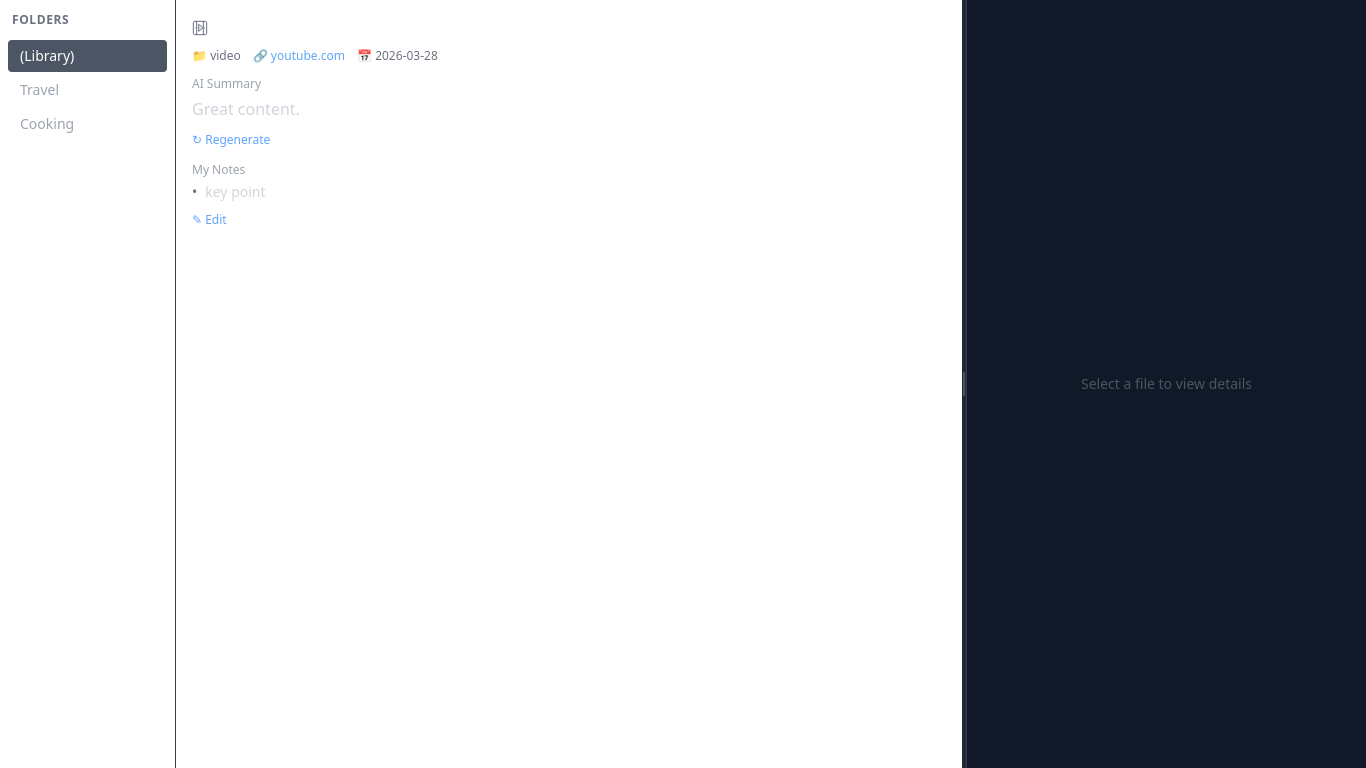
Test: NotesTab › shows Edit button and textarea on click
Click the button "✎ Edit" at (209, 220), box [192,212,227,228]
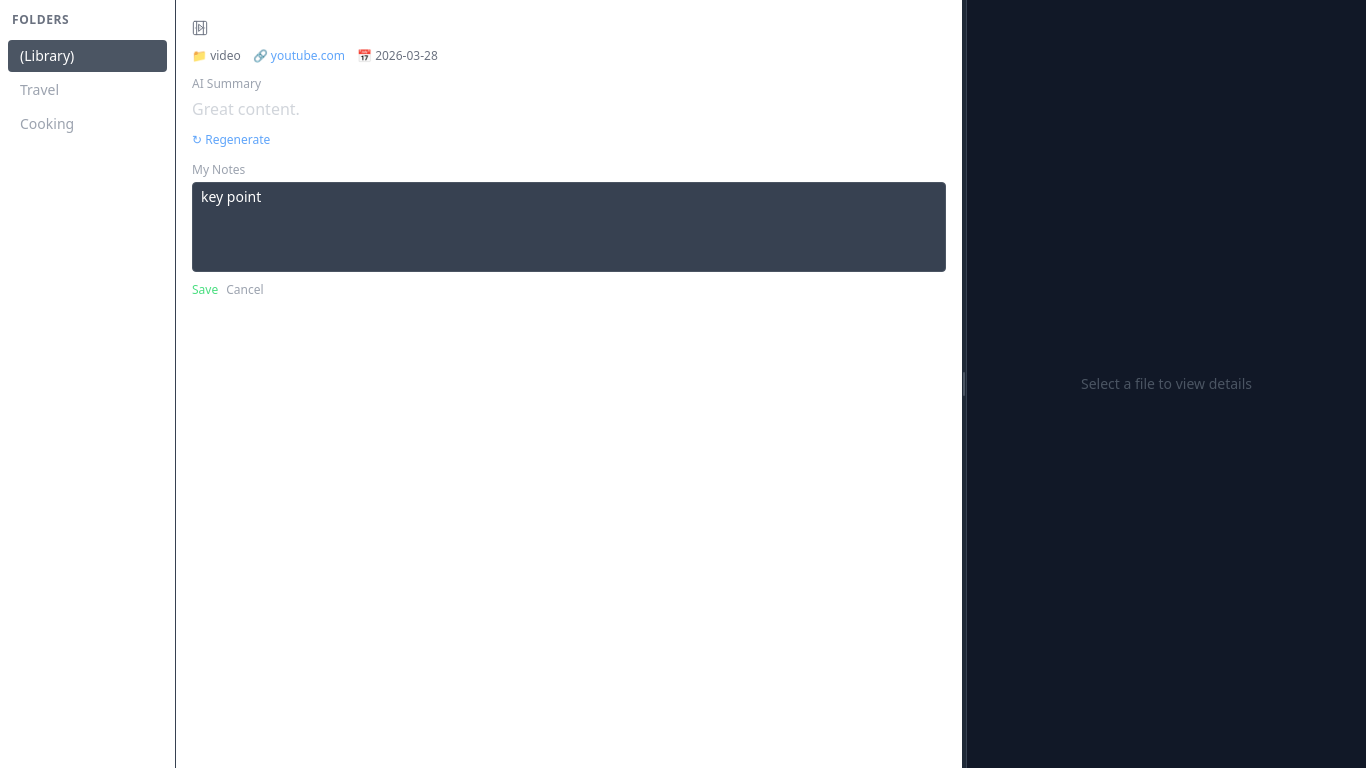
Now the text box is shown, box [192,182,946,272]
